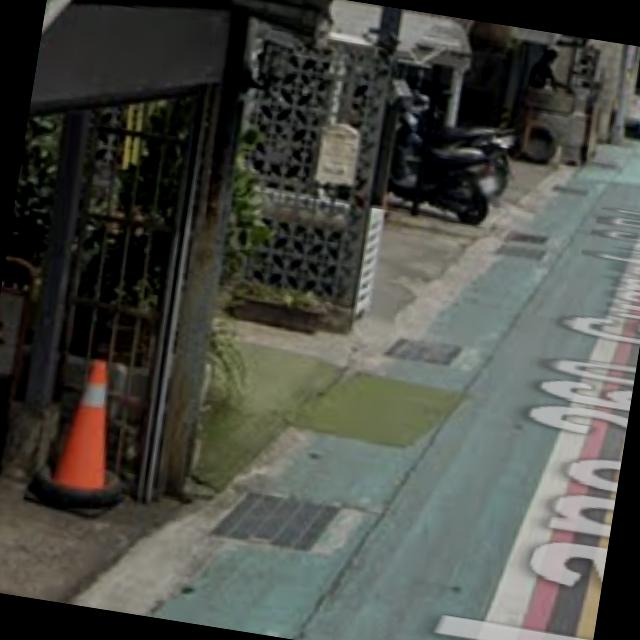cone: (17, 334, 166, 540)
